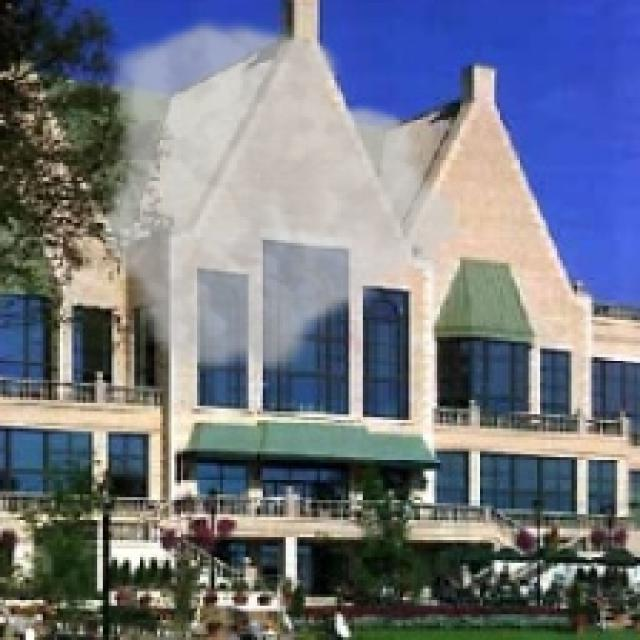smoke: (97, 14, 469, 383)
